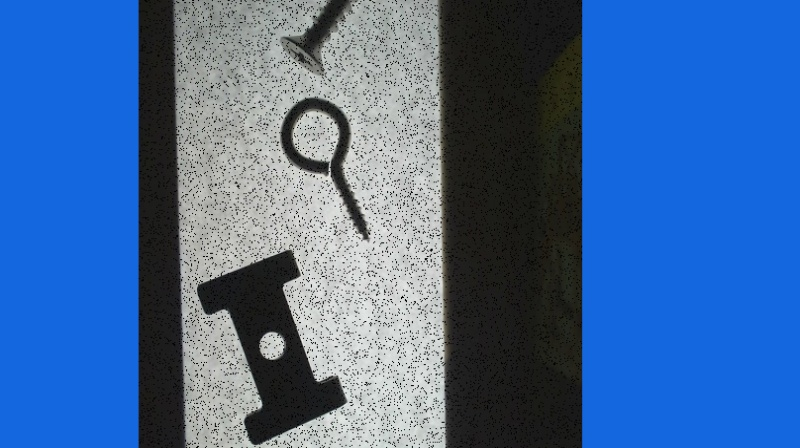O001: (276, 91, 373, 246)
O002: (193, 243, 348, 447)
S001: (274, 0, 399, 79)
